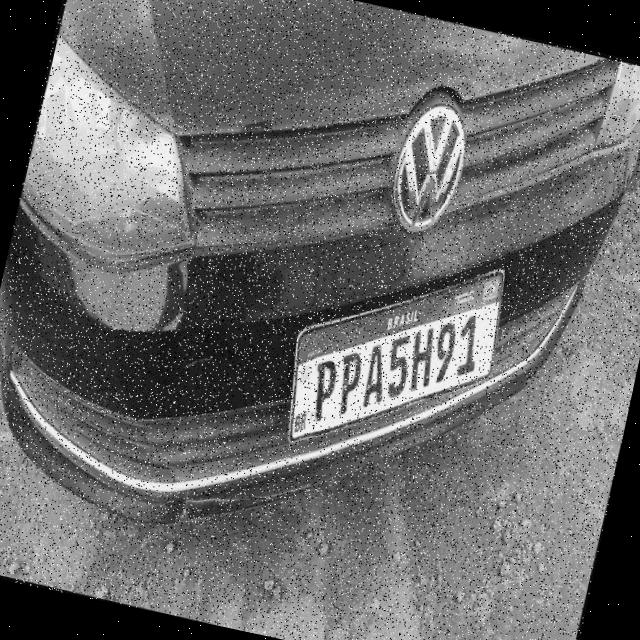Caractere: (399, 320, 442, 395), (378, 329, 416, 401), (304, 354, 342, 424), (450, 308, 487, 379), (357, 341, 394, 412), (330, 347, 365, 417), (426, 316, 459, 384)
